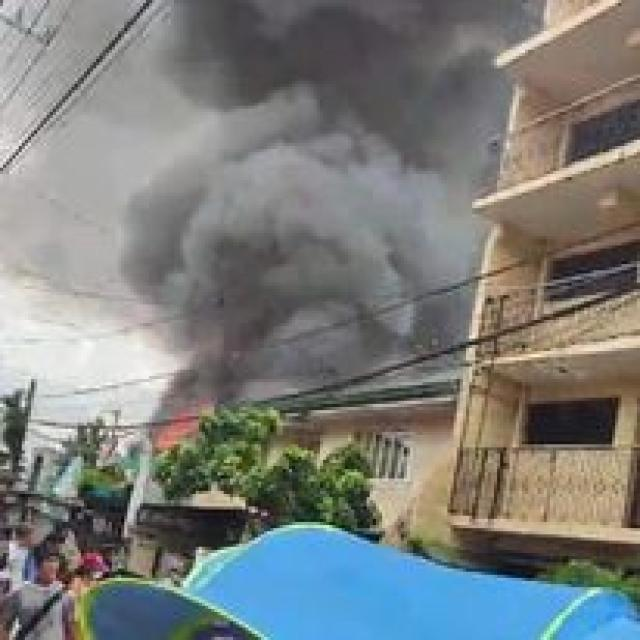Fire: (157, 408, 191, 444)
Smoke: (28, 1, 468, 330), (162, 315, 368, 383)
